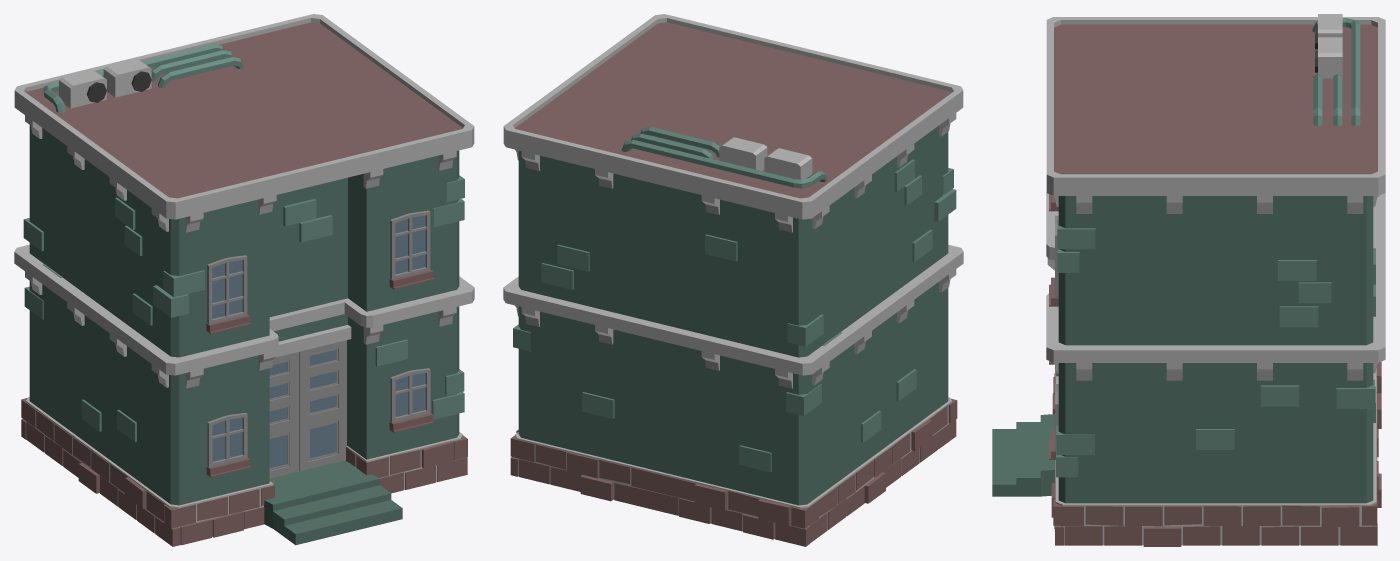
File: 2Story_Center_Mat.glb
3 renders of one model, left to right at view 1: azimuth 30°, elevation 25°; view 2: azimuth 150°, elevation 25°; view 3: azimuth 270°, elevation 25°, orthographic. The views are drawn at different scales.
Visible parts, largest first — view 1: 2Story_Center_Mat; view 2: 2Story_Center_Mat; view 3: 2Story_Center_Mat.
Boxes of the visible parts, <box> form: 2Story_Center_Mat: <box>14,14,474,546</box>; 2Story_Center_Mat: <box>503,14,963,546</box>; 2Story_Center_Mat: <box>992,14,1385,546</box>.
Bounding box in the file's own units: 2.42 × 2.74 × 2.5.
